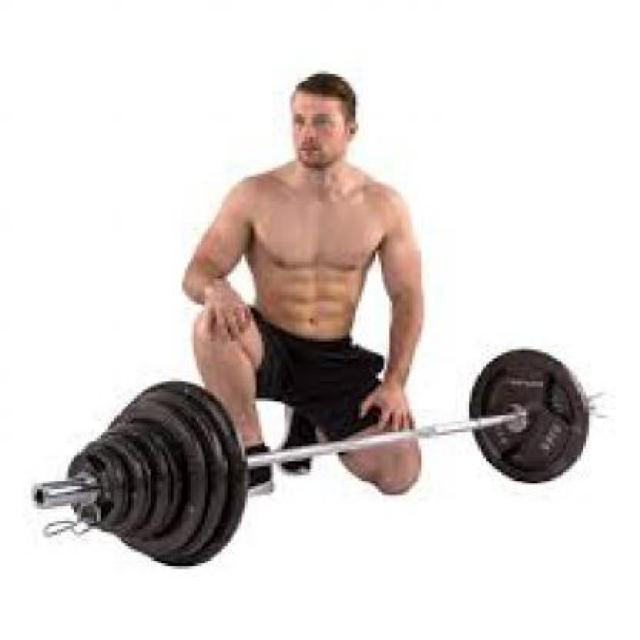barbell: (59, 371, 257, 574)
